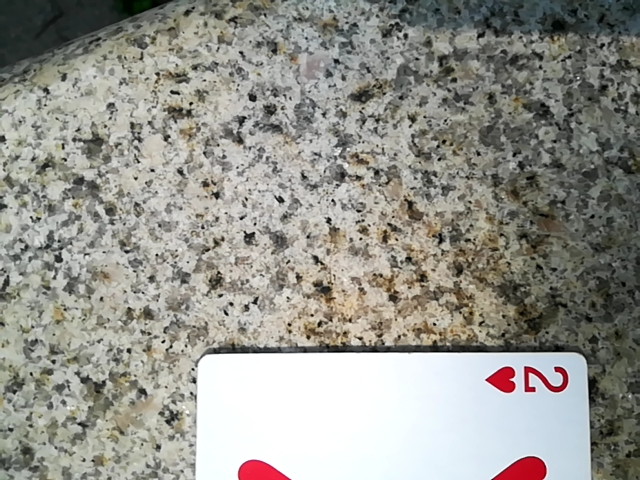hx 2: (172, 355, 589, 479)
